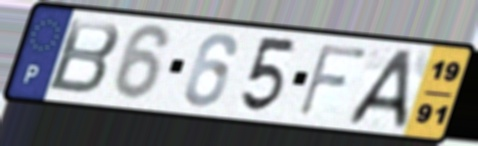5: (237, 34, 304, 116)
6: (110, 22, 176, 106), (181, 32, 238, 109)
A: (343, 48, 418, 130)
B: (45, 16, 125, 97)
F: (294, 41, 373, 119)
